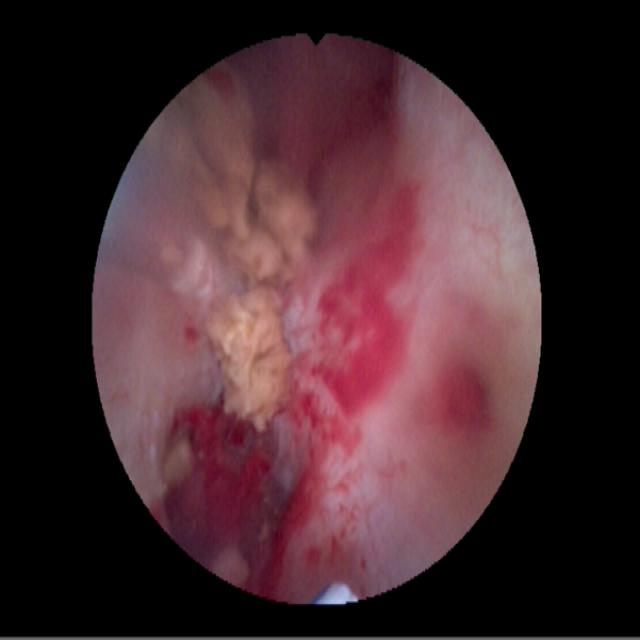stone: (169, 70, 312, 279), (206, 288, 286, 428), (165, 436, 194, 480)
